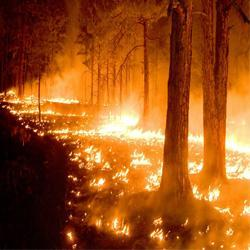fire: (97, 108, 159, 141), (228, 111, 250, 177), (42, 96, 81, 109), (130, 148, 152, 166), (82, 144, 98, 163)
